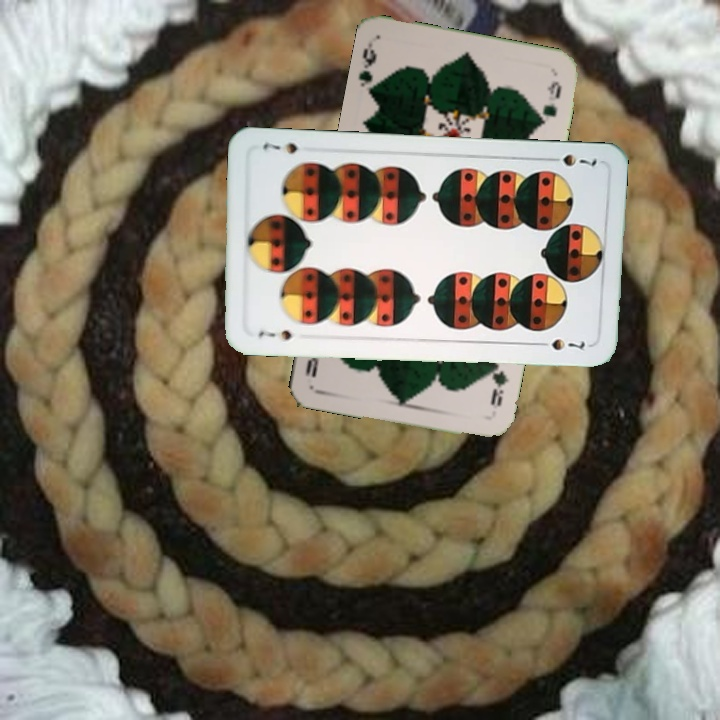G9: (354, 38, 381, 99), (487, 357, 512, 409)
S7: (543, 150, 600, 169), (254, 326, 295, 343)
